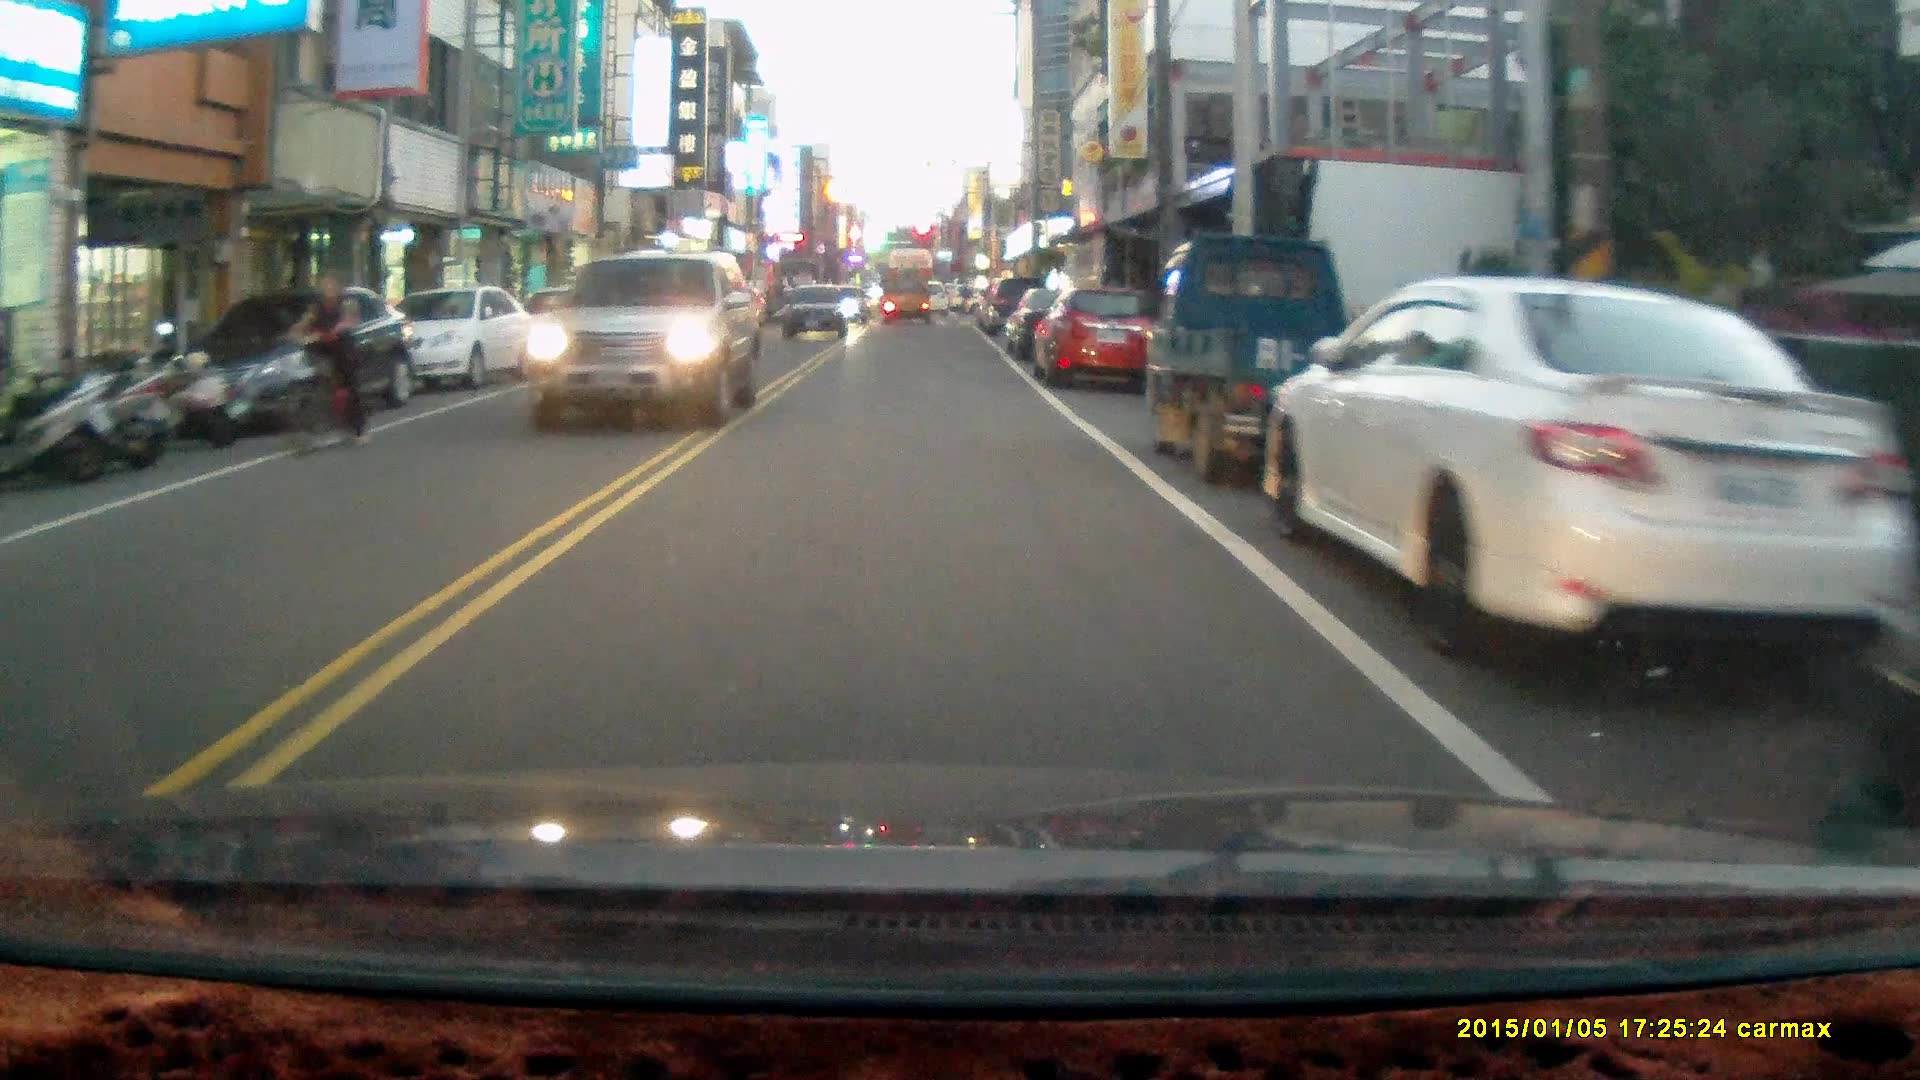rider: (279, 267, 371, 457)
vehicle: (1261, 276, 1886, 671), (1146, 231, 1410, 489), (521, 250, 763, 433), (167, 286, 408, 429), (338, 286, 526, 397), (1038, 288, 1160, 393), (778, 285, 851, 343), (880, 271, 934, 331)
